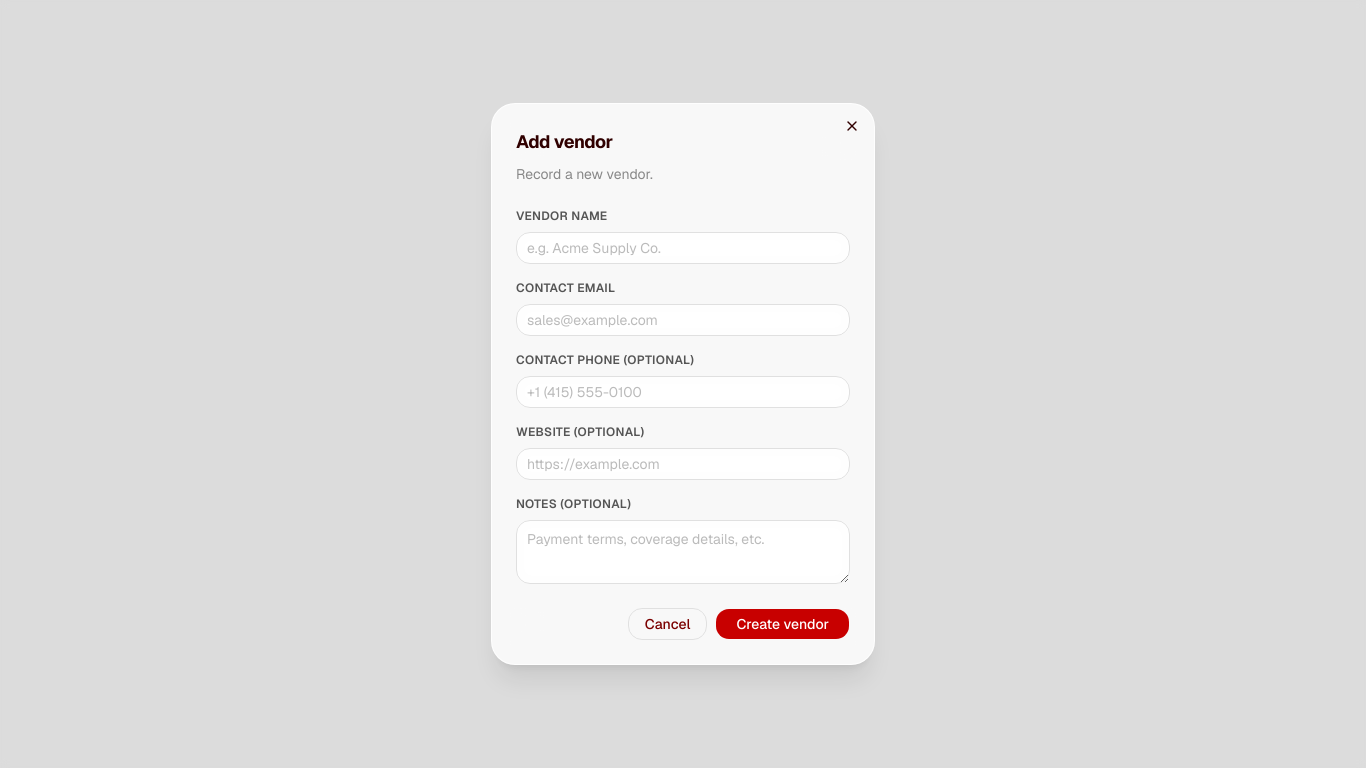
VendorFormModal › shows a validation error when the email is malformed
Step 1. Type "Bad Email" into the field with test id "vendor-form-name" → (683,248), box x1=516 y1=232 x2=850 y2=264
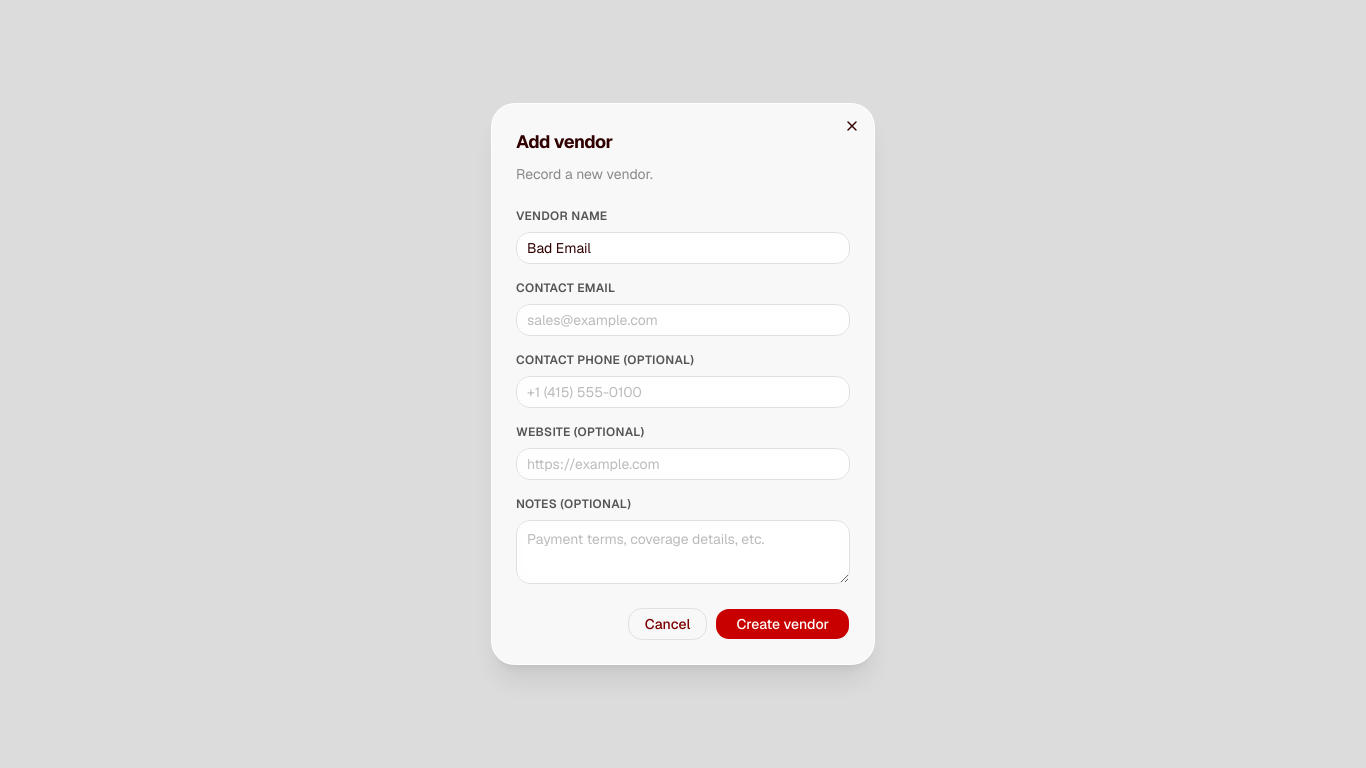
Step 2. Type "not-an-email" into the field with test id "vendor-form-email" → (683,320), box x1=516 y1=304 x2=850 y2=336
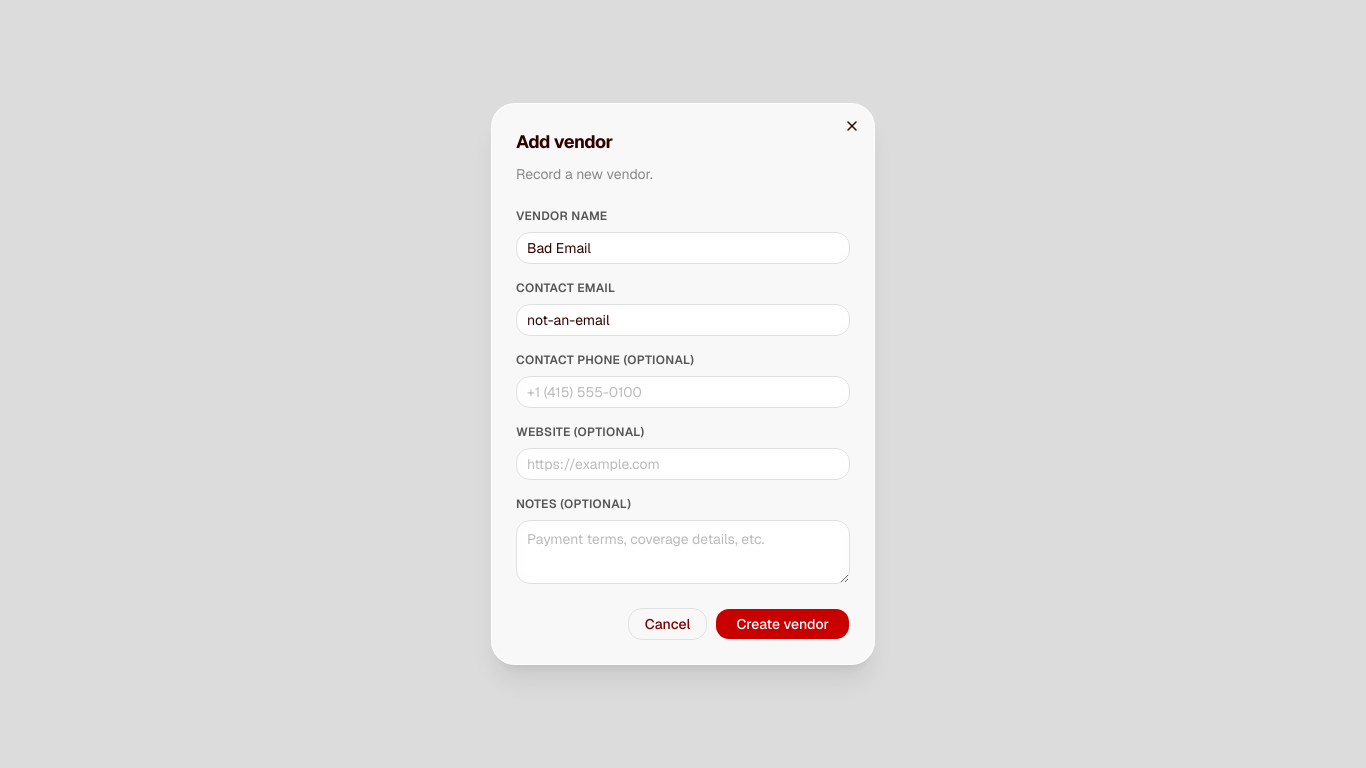
Step 3. Submit the form with test id "vendor-form", box x1=516 y1=208 x2=850 y2=640
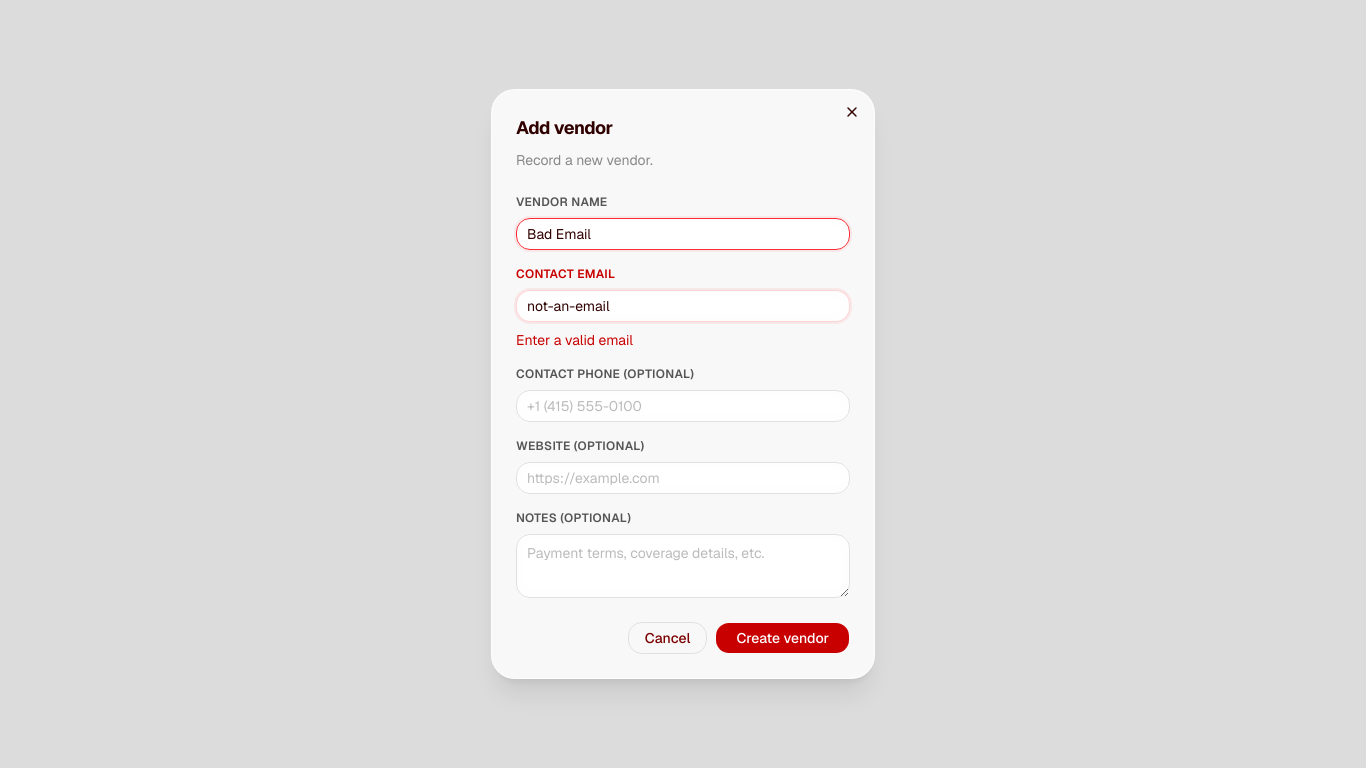
Expected: the text "Enter a valid email" is shown, x1=516 y1=331 x2=633 y2=349
